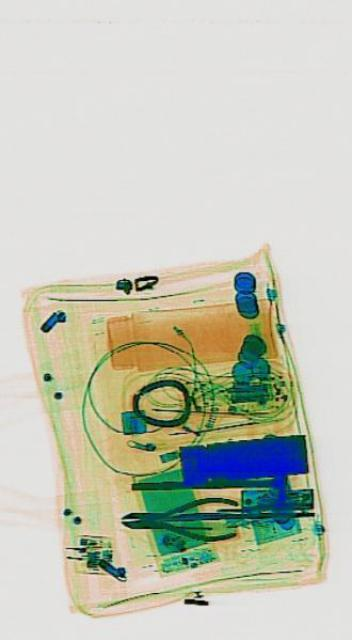Pliers: (118, 494, 236, 542)
